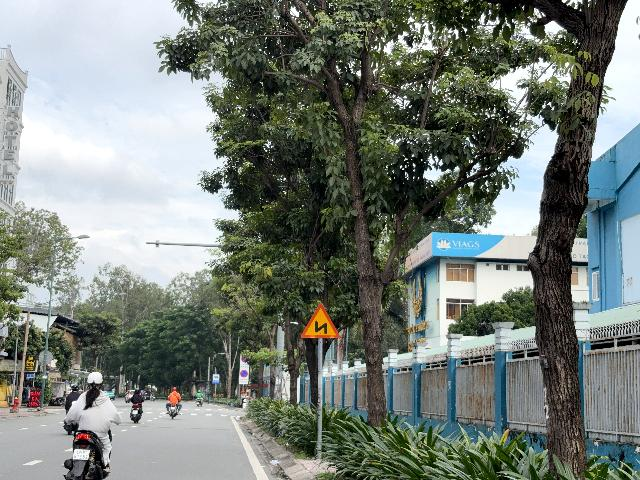nhieu-cho-ngoat-nguy-hiem-lien-tiep: (301, 303, 340, 338)
